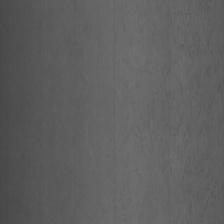silk_spot: (124, 10, 217, 210)
